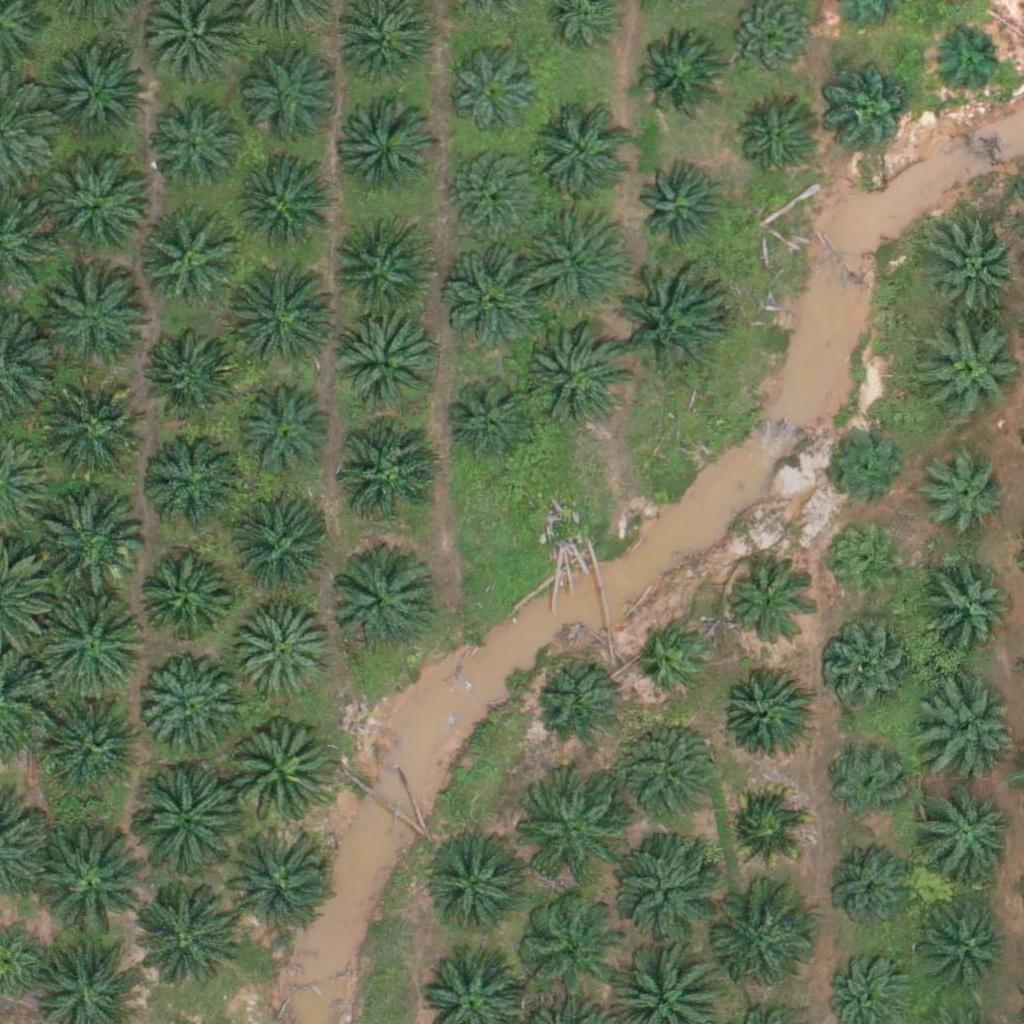Kelapa_Sawit: (611, 825, 724, 938), (127, 765, 240, 878), (124, 882, 237, 995), (612, 265, 725, 378), (32, 482, 145, 595), (31, 824, 143, 938), (35, 583, 147, 697), (707, 884, 819, 997), (223, 717, 335, 830), (220, 825, 332, 938), (515, 202, 627, 315), (227, 260, 339, 373), (47, 36, 147, 137), (240, 44, 340, 145), (338, 102, 438, 203), (918, 782, 1018, 883), (512, 782, 612, 883), (518, 894, 618, 995), (430, 830, 530, 931), (327, 554, 427, 655), (234, 603, 334, 704), (132, 548, 232, 649), (139, 656, 239, 757), (911, 443, 1011, 544), (521, 326, 621, 427), (446, 243, 546, 344), (330, 312, 430, 413), (330, 224, 430, 325), (234, 156, 334, 257), (446, 41, 546, 141), (532, 105, 632, 205), (917, 563, 1017, 663), (920, 679, 1020, 779), (619, 717, 719, 817), (232, 505, 332, 605), (46, 694, 146, 794), (918, 323, 1018, 423), (336, 422, 436, 522), (232, 381, 332, 481), (144, 426, 244, 526), (136, 206, 236, 306), (141, 322, 241, 422), (47, 155, 147, 255), (47, 272, 147, 372), (39, 385, 139, 485), (451, 148, 539, 237), (827, 71, 915, 159), (920, 899, 1008, 987), (821, 520, 909, 608), (825, 738, 913, 826), (826, 850, 914, 938), (534, 658, 622, 746), (732, 98, 819, 186), (633, 30, 720, 118), (150, 101, 237, 189), (823, 621, 910, 709), (725, 562, 812, 650), (721, 667, 808, 755), (721, 785, 808, 873), (823, 421, 910, 509), (638, 167, 725, 255), (447, 374, 534, 462), (637, 624, 712, 700), (931, 22, 1006, 97)
